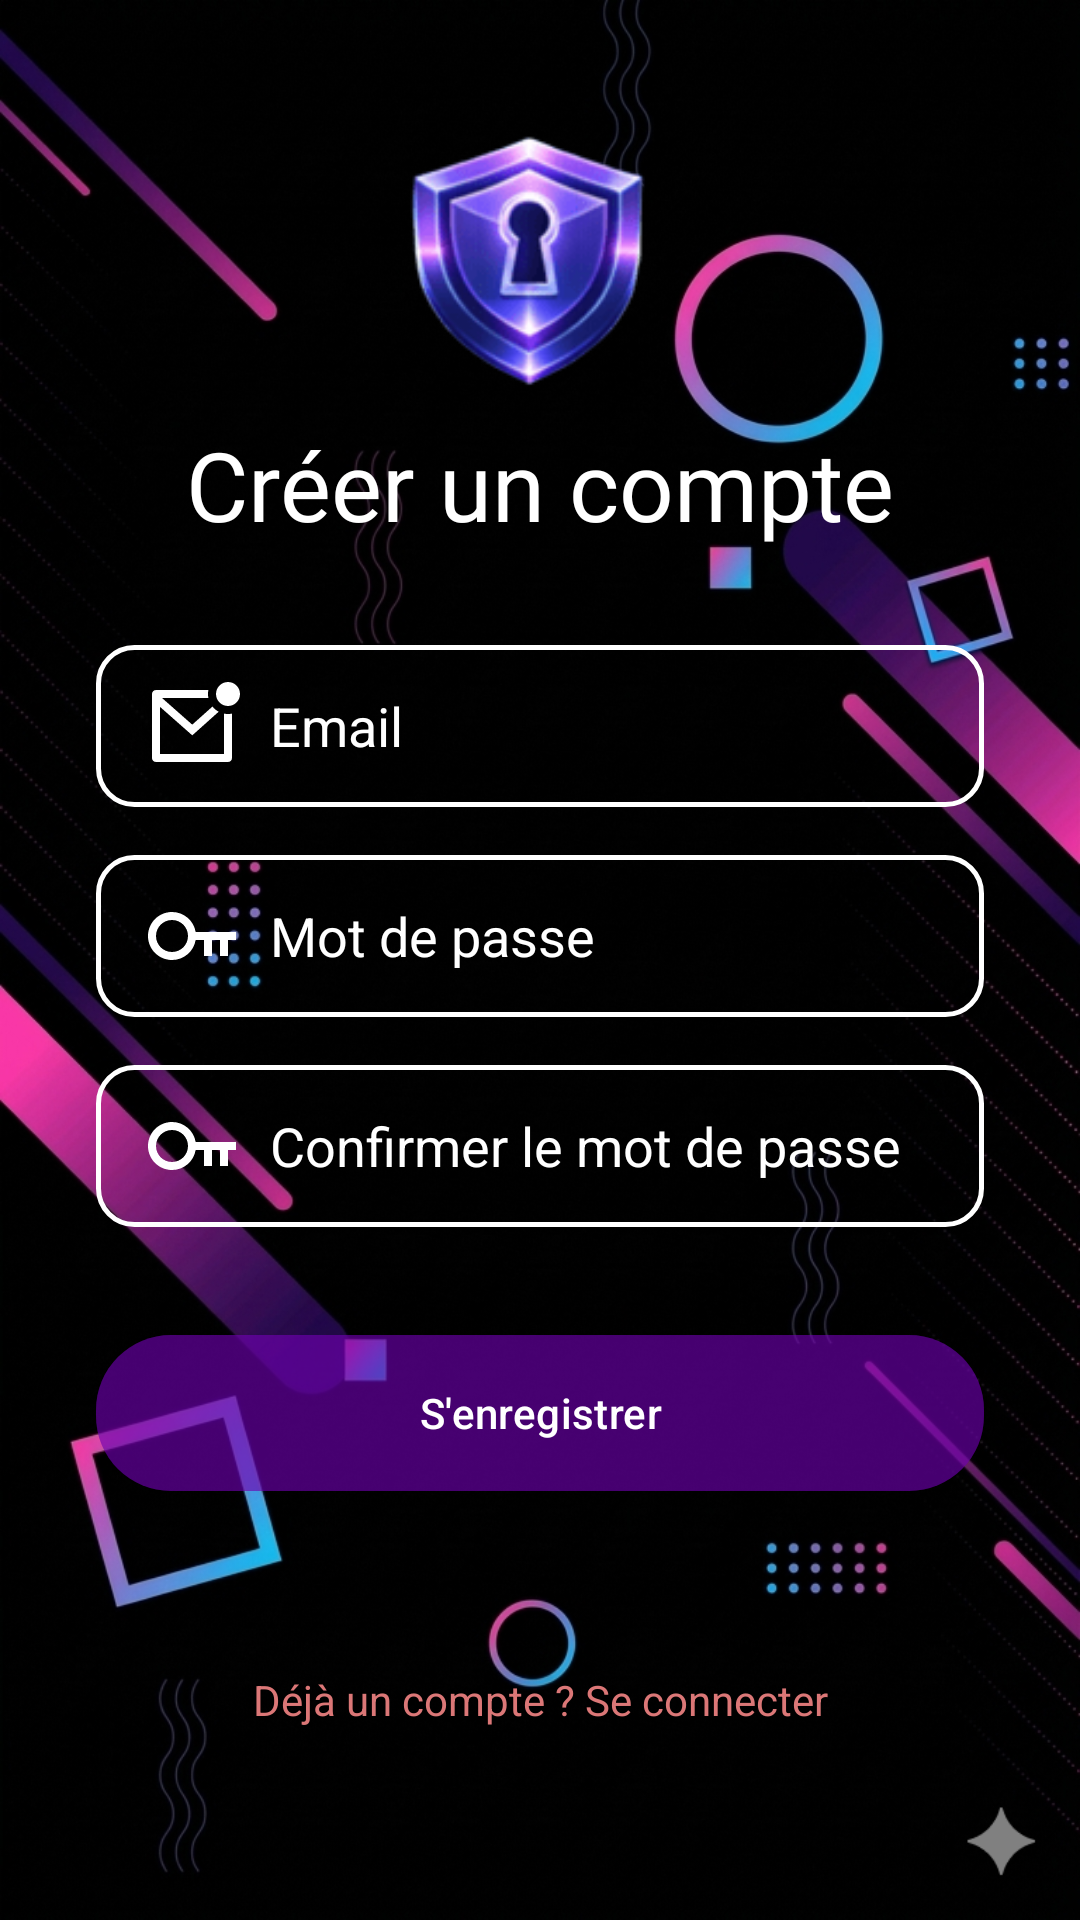

Icon click points for this 1080px x 1920px phone screenshot, format point (x, y):
key line: point (194, 936), point (192, 1146)
mail unread line: point (196, 722)
